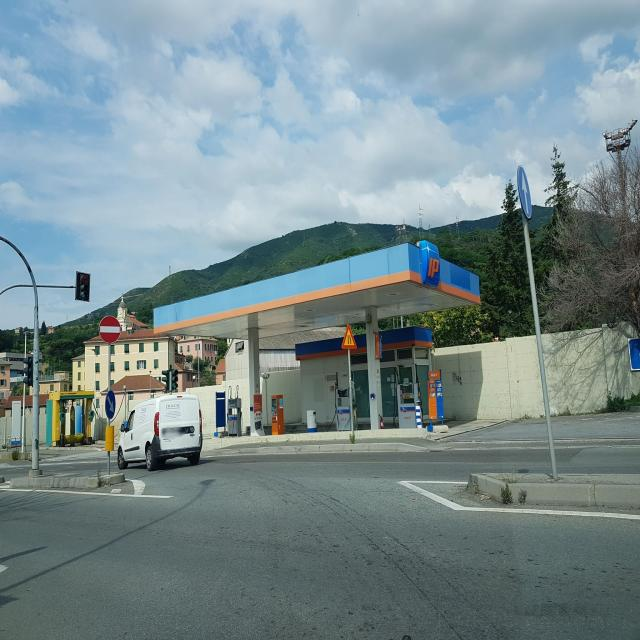car: (117, 392, 203, 471)
